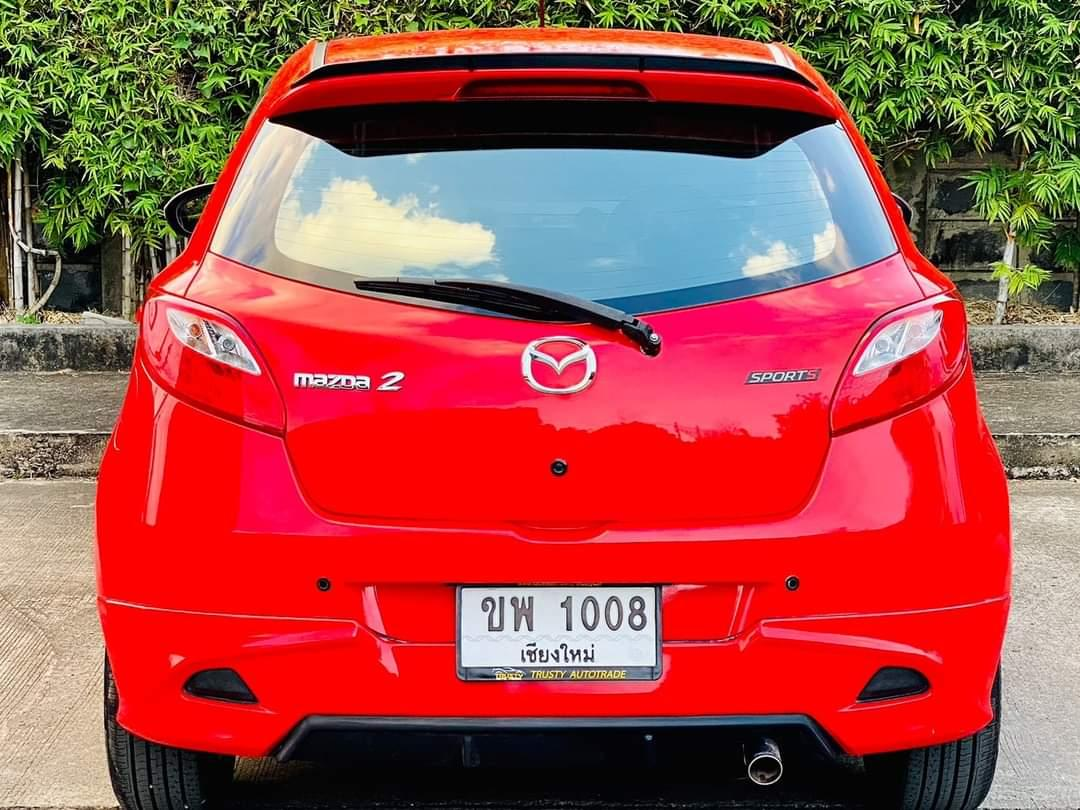license-plate: (455, 583, 665, 682)
